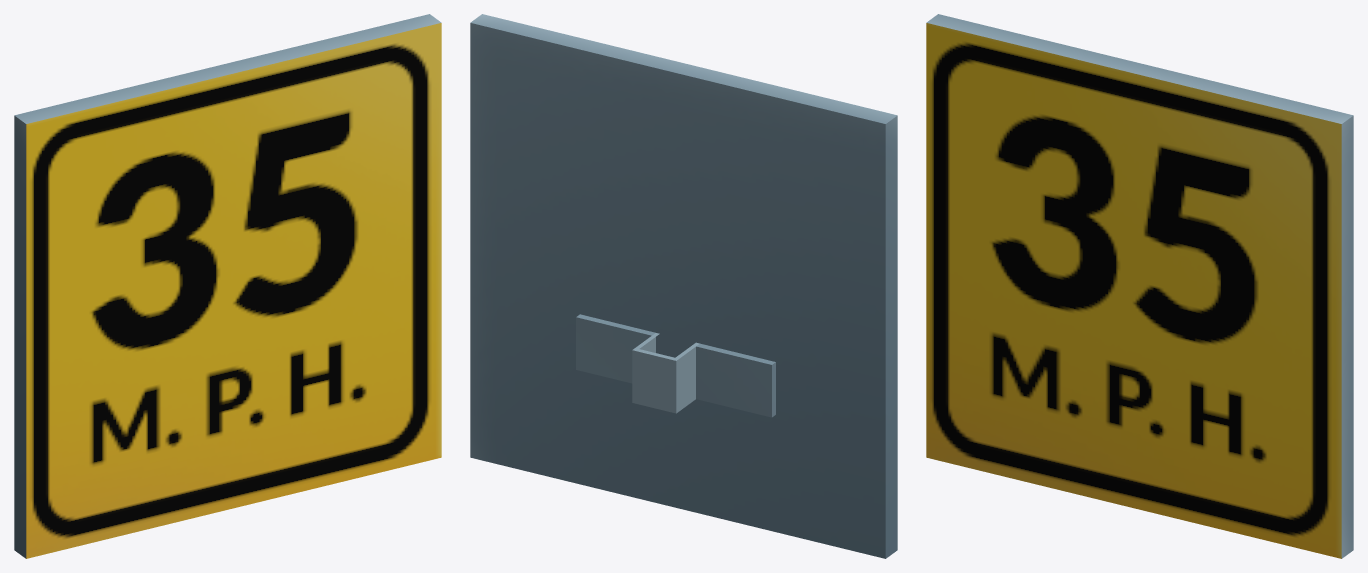
File: Sign9.fbx
3 views of the same model, side by side, from view 1: azimuth 30°, elevation 25°; view 2: azimuth 150°, elevation 25°; view 3: azimuth 330°, elevation 25° (orthographic).
Parts seen in each view (by area): view 1: Sign9; view 2: Sign9; view 3: Sign9.
Part boxes in pixels (x1=…): Sign9: x1=14, y1=14, x2=441, y2=558; Sign9: x1=470, y1=14, x2=897, y2=558; Sign9: x1=926, y1=14, x2=1353, y2=558.
Bounding box in the file's own units: 1 × 0.1489 × 1.
